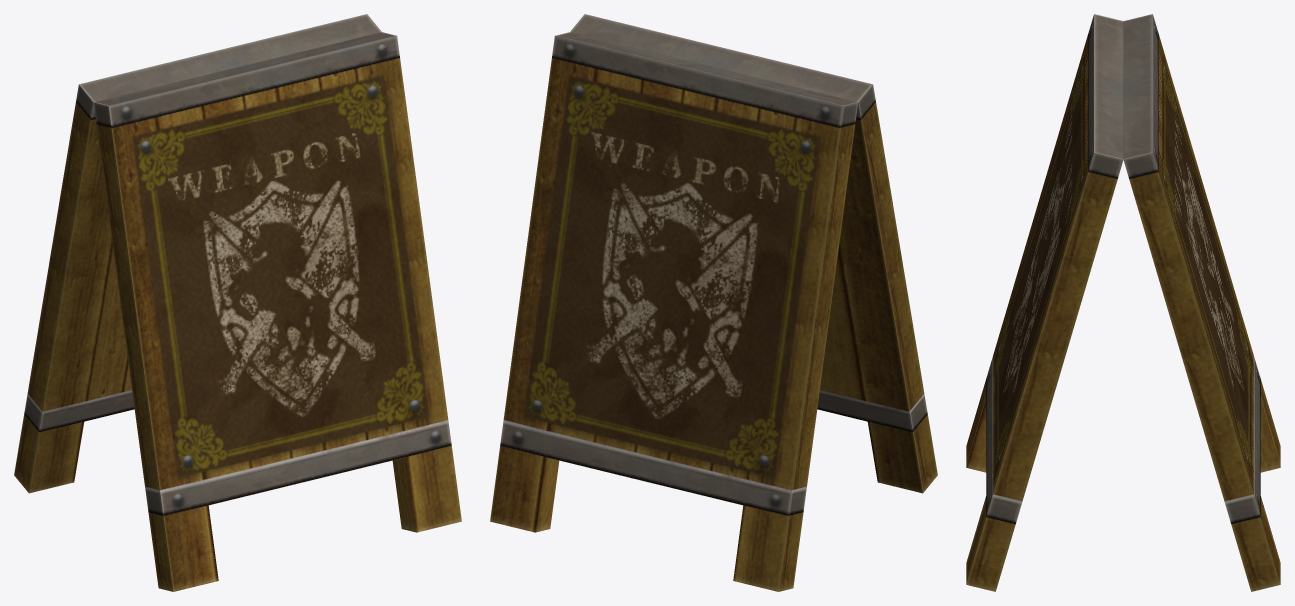
File: sign_board.fbx
3 renders of one model, left to right at view 1: azimuth 30°, elevation 25°; view 2: azimuth 150°, elevation 25°; view 3: azimuth 270°, elevation 25°, orthographic.
Parts seen in each view (by area): view 1: sign_board; view 2: sign_board; view 3: sign_board.
Part boxes in pixels (bbox=[...]): sign_board: bbox=[14, 14, 461, 591]; sign_board: bbox=[490, 14, 937, 591]; sign_board: bbox=[966, 14, 1280, 591].
Bounding box in the file's own units: 40.03 × 59.09 × 38.32.
